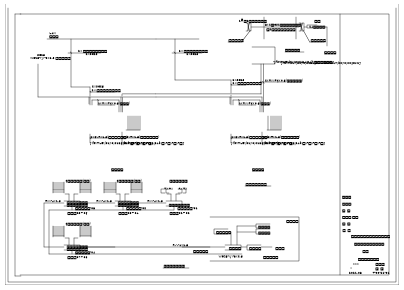door: (242, 251, 253, 252)
room: (344, 10, 394, 280), (253, 228, 276, 246), (257, 58, 271, 64), (248, 36, 262, 41), (257, 52, 271, 57), (214, 53, 228, 58)
wall: (242, 251, 251, 263), (306, 251, 312, 263), (301, 263, 303, 271), (305, 263, 307, 271), (247, 263, 249, 271), (250, 263, 252, 271)
window: (231, 194, 233, 195), (231, 197, 233, 198), (87, 194, 88, 195), (120, 194, 121, 195)
